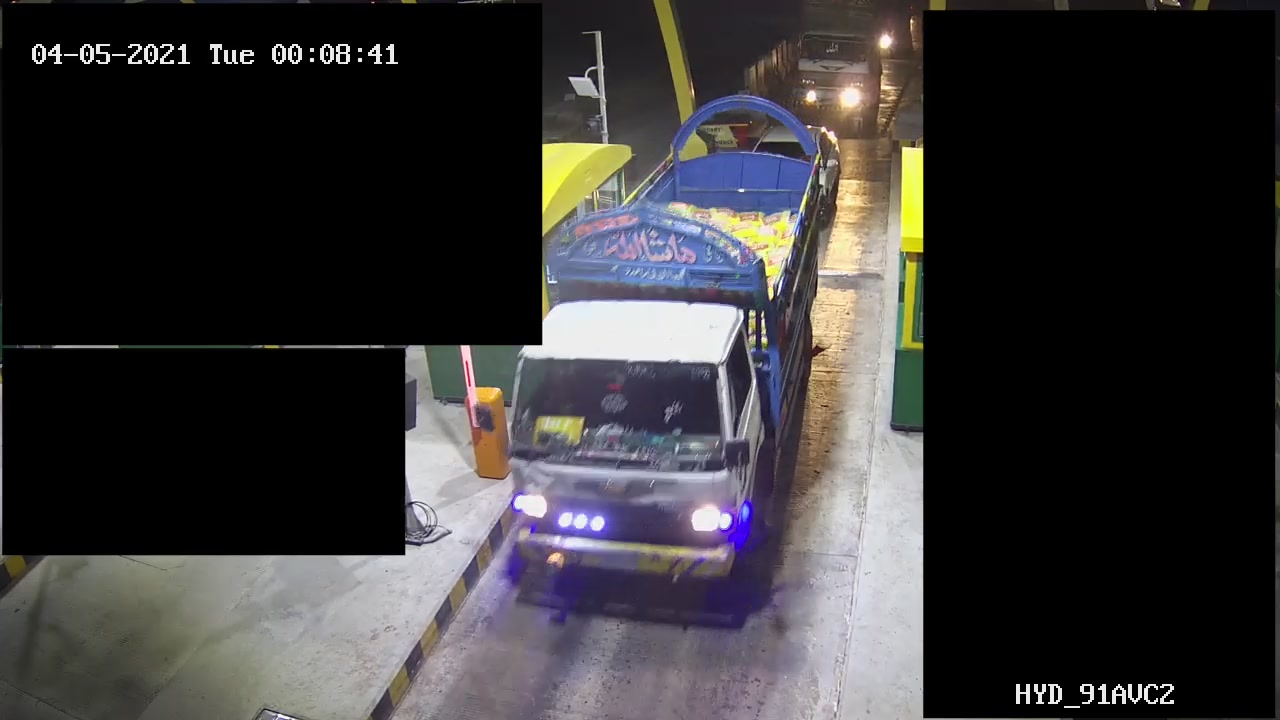F5: (496, 82, 822, 602)
